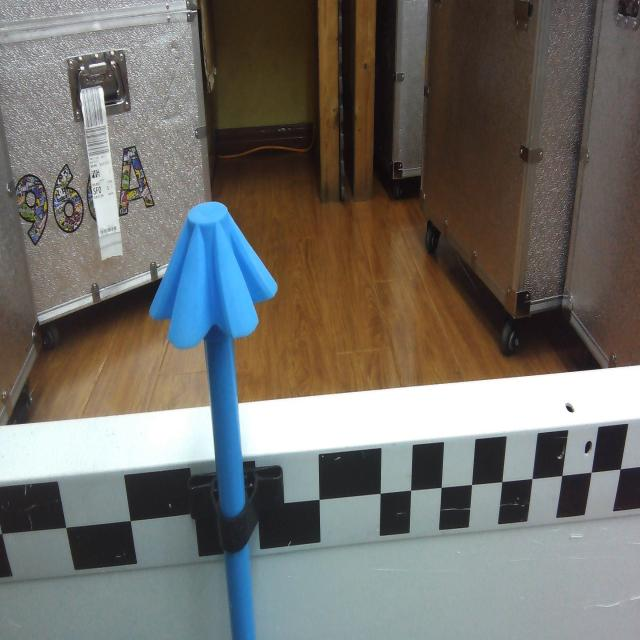zblue-Stake-Head: (149, 201, 278, 349)
